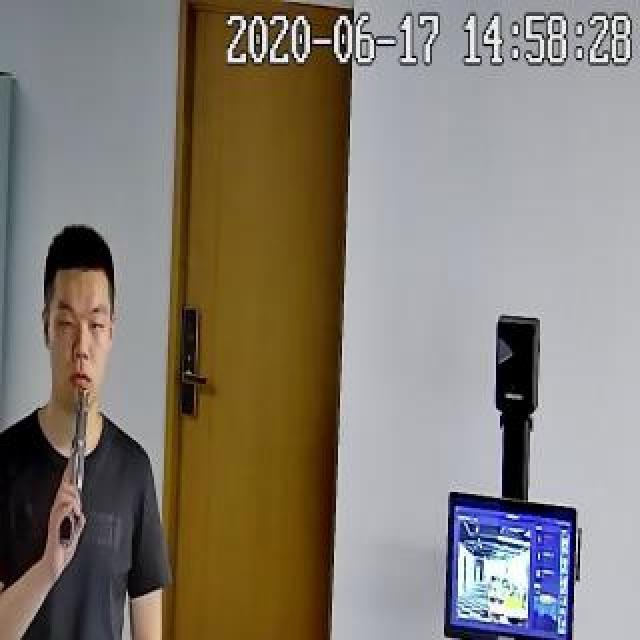Guns: (54, 382, 100, 544)
